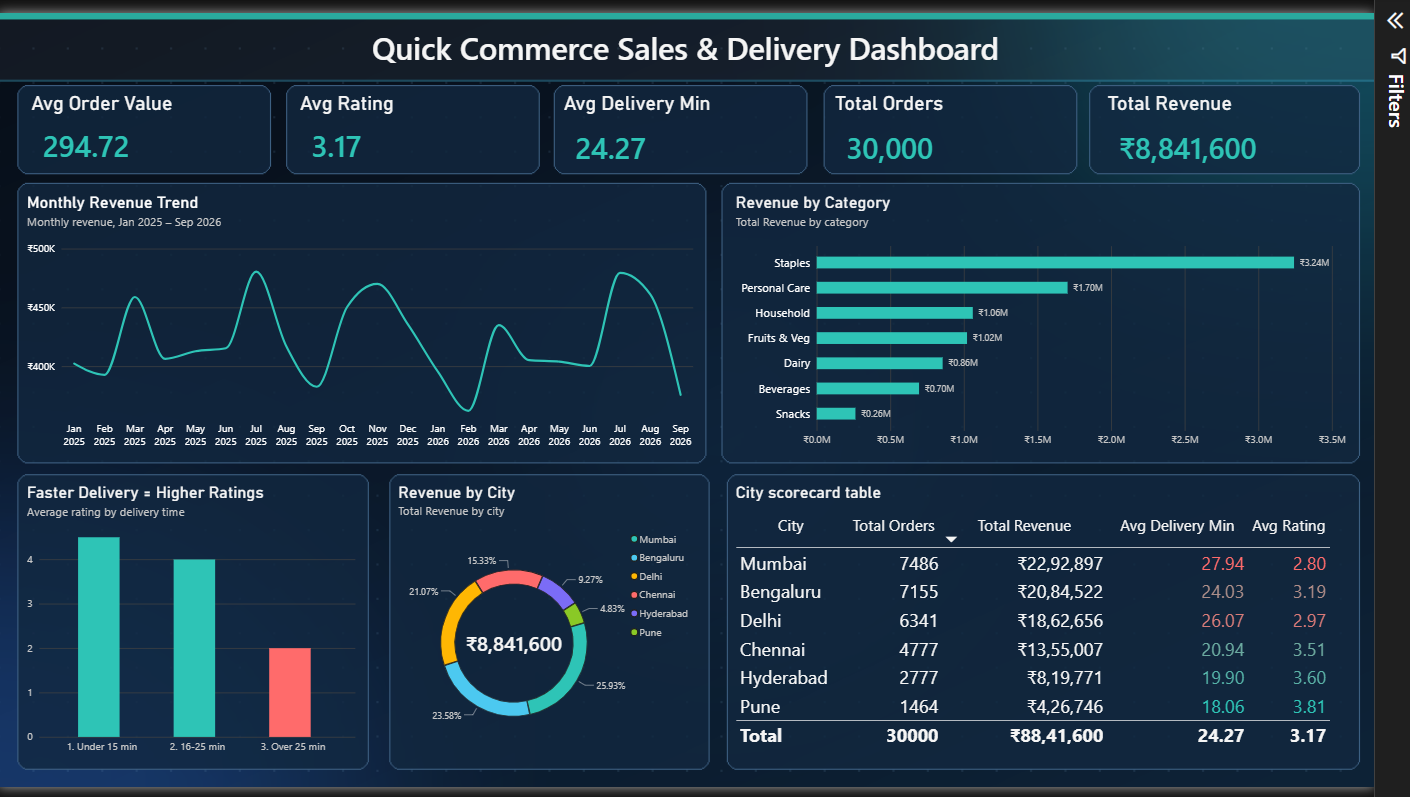

This screenshot's page, from the dashboard's own definition file:
{"tool":"powerbi","page":{"name":"Page 1","canvas":[1920,1080],"ordinal":0},"visuals":[{"type":"cardVisual","title":"Total Orders","fields":{"Data":["vw_sales.Total Orders Display"]},"box":[1159.9,109.9,327.9,106.4],"z":0},{"type":"lineChart","title":"Monthly Revenue Trend","fields":{"Category":["DimDate.MonthYear"],"Y":["vw_sales.Total Revenue"]},"box":[24,236,964,390],"z":1000},{"type":"clusteredBarChart","title":"Revenue by Category","fields":{"Category":["vw_sales.category"],"Y":["vw_sales.Total Revenue"]},"box":[1014,236,884,390],"z":2000},{"type":"donutChart","title":"Revenue by City","fields":{"Category":["vw_sales.city"],"Y":["vw_sales.Total Revenue"]},"box":[542,640,446,414],"z":3000},{"type":"clusteredColumnChart","title":"Faster Delivery = Higher Ratings","fields":{"Category":["vw_sales.delivery_bucket"],"Y":["vw_sales.Avg Rating"]},"box":[24,640,490,414],"z":4000},{"type":"tableEx","title":"City scorecard table","fields":{"Values":["vw_sales.city","vw_sales.Total Orders","vw_sales.Total Revenue","vw_sales.Avg Delivery Min","vw_sales.Avg Rating"]},"box":[1014,640,884,408],"z":5000},{"type":"cardVisual","title":"Avg Order Value","fields":{"Data":["vw_sales.Avg Order Value"]},"box":[38.4,109.9,329.7,99.4],"z":6000},{"type":"cardVisual","title":"Avg Rating","fields":{"Data":["vw_sales.Avg Rating"]},"box":[414,110,332,98],"z":7000},{"type":"cardVisual","title":"Avg Delivery Min","fields":{"Data":["vw_sales.Avg Delivery Min"]},"box":[782,110,336,106],"z":8000},{"type":"cardVisual","title":"Total Revenue","fields":{"Data":["vw_sales.Total Revenue Display"]},"box":[1540.1,109.9,343.6,106.4],"z":9000},{"type":"textbox","box":[94.2,19.2,1732,64.5],"z":10000}]}

Visuals, with their boxes in screenshot pixels (x1, y1, x2, y2), scaled from the page's 1920x1080 canvas onto the 1410x797 screenshot:
"Total Orders" cardVisual: 852, 81, 1093, 160
"Monthly Revenue Trend" lineChart: 18, 174, 726, 462
"Revenue by Category" clusteredBarChart: 745, 174, 1394, 462
"Revenue by City" donutChart: 398, 472, 726, 778
"Faster Delivery = Higher Ratings" clusteredColumnChart: 18, 472, 377, 778
"City scorecard table" tableEx: 745, 472, 1394, 773
"Avg Order Value" cardVisual: 28, 81, 270, 154
"Avg Rating" cardVisual: 304, 81, 548, 153
"Avg Delivery Min" cardVisual: 574, 81, 821, 159
"Total Revenue" cardVisual: 1131, 81, 1383, 160
textbox: 69, 14, 1341, 62
